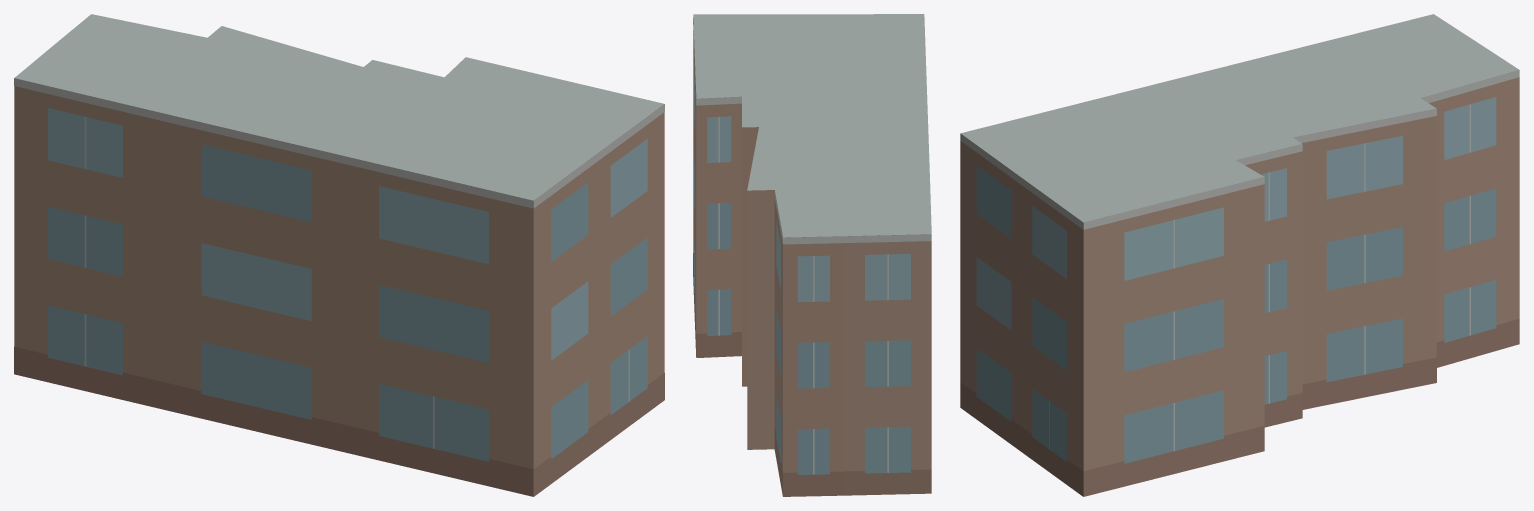
Rendered from survey-upis-32935339.glb.
3 views of the same model, side by side, from view 1: azimuth 30°, elevation 25°; view 2: azimuth 150°, elevation 25°; view 3: azimuth 270°, elevation 25° (orthographic). The views are drawn at different scales.
Parts seen in each view (by area): view 1: survey-upis-32935339.tmp; view 2: survey-upis-32935339.tmp; view 3: survey-upis-32935339.tmp.
Part boxes in pixels (<box>): survey-upis-32935339.tmp: <box>14,14,664,496</box>; survey-upis-32935339.tmp: <box>693,14,931,496</box>; survey-upis-32935339.tmp: <box>960,14,1519,496</box>.
Size of the model in its own units: 14.93 by 9.15 by 16.91.
